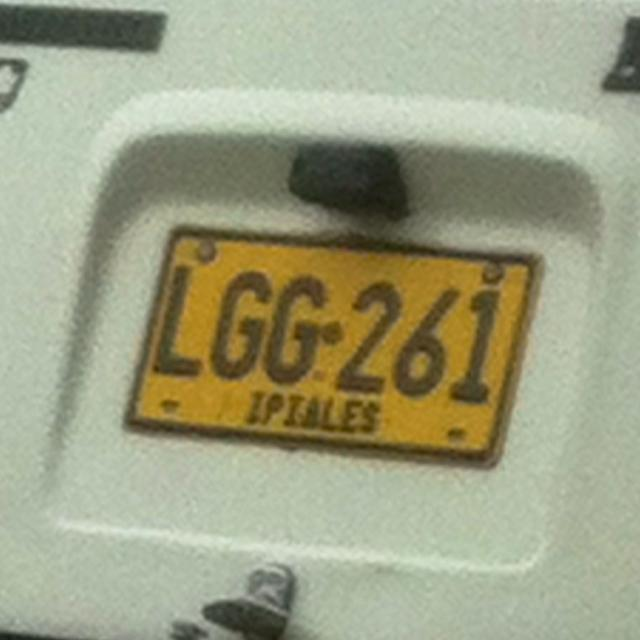placa: (120, 205, 549, 480)
